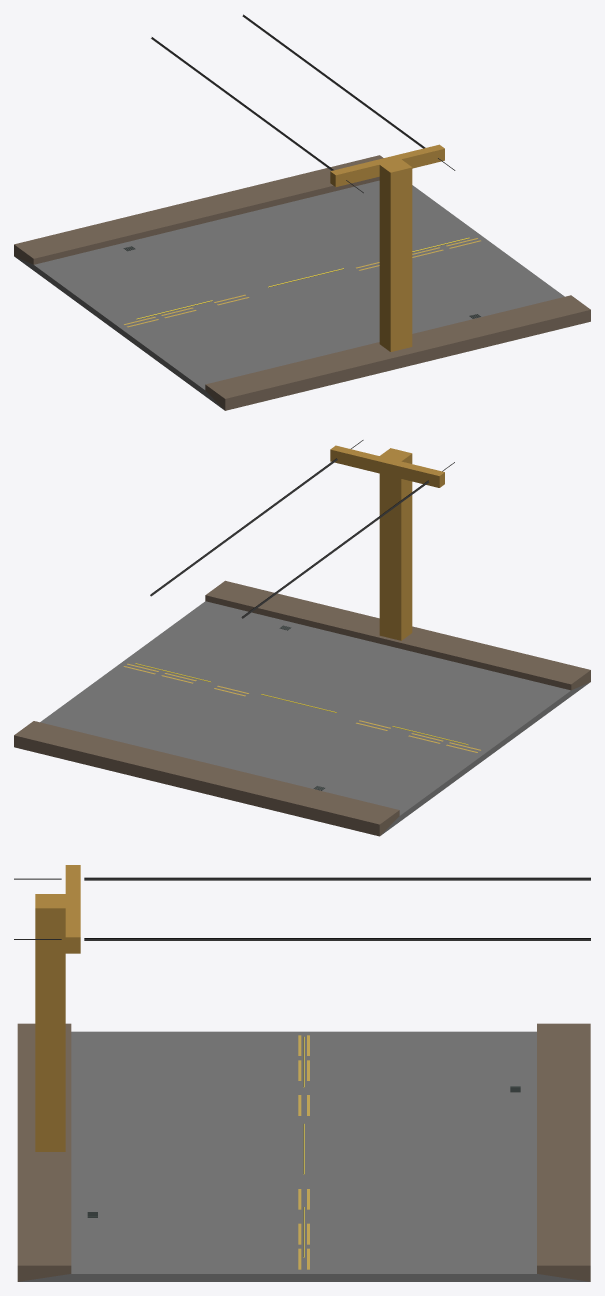
3 renders of one model, top to bottom at view 1: azimuth 30°, elevation 25°; view 2: azimuth 150°, elevation 25°; view 3: azimuth 270°, elevation 25°, orthographic. The views are drawn at different scales.
Visible parts, largest first — view 1: RD68H | archived geometry, RD68H | line, light and sprite surfaces, Fitted street and landscape details; view 2: RD68H | archived geometry, RD68H | line, light and sprite surfaces, Fitted street and landscape details; view 3: RD68H | archived geometry, RD68H | line, light and sprite surfaces, Fitted street and landscape details.
Boxes of the visible parts, bbox=[...] form: RD68H | archived geometry: bbox=[14, 144, 590, 410]; RD68H | line, light and sprite surfaces: bbox=[136, 14, 469, 319]; Fitted street and landscape details: bbox=[123, 238, 480, 327]; RD68H | archived geometry: bbox=[14, 445, 590, 836]; RD68H | line, light and sprite surfaces: bbox=[135, 440, 468, 744]; Fitted street and landscape details: bbox=[123, 625, 480, 790]; RD68H | archived geometry: bbox=[17, 865, 590, 1281]; RD68H | line, light and sprite surfaces: bbox=[14, 877, 590, 1257]; Fitted street and landscape details: bbox=[87, 1035, 520, 1269].
Bounding box in the file's own units: 16 × 8 × 16.11.
